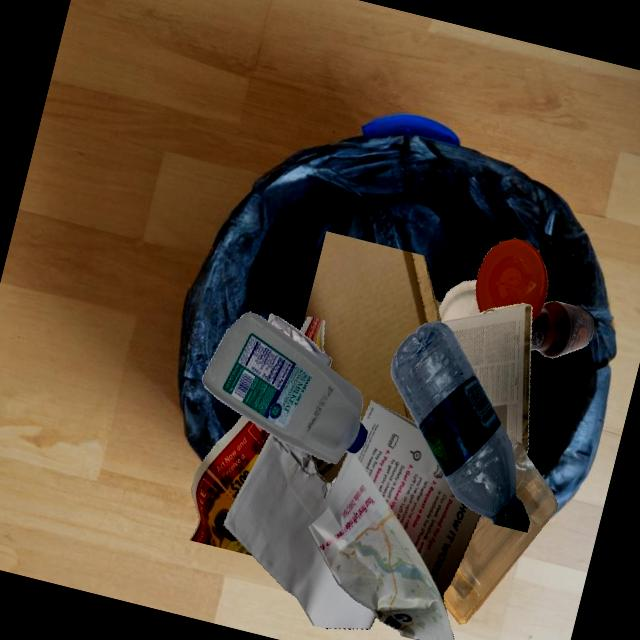cardboard: (302, 231, 440, 423), (435, 300, 441, 311)
glass: (530, 300, 595, 358)
paper: (307, 400, 480, 640), (223, 433, 376, 628), (440, 303, 531, 452), (223, 331, 315, 471), (190, 471, 252, 555), (268, 313, 332, 367), (438, 279, 480, 321)
plastic: (390, 321, 529, 532), (201, 311, 367, 464), (443, 440, 557, 624), (475, 238, 548, 323)
